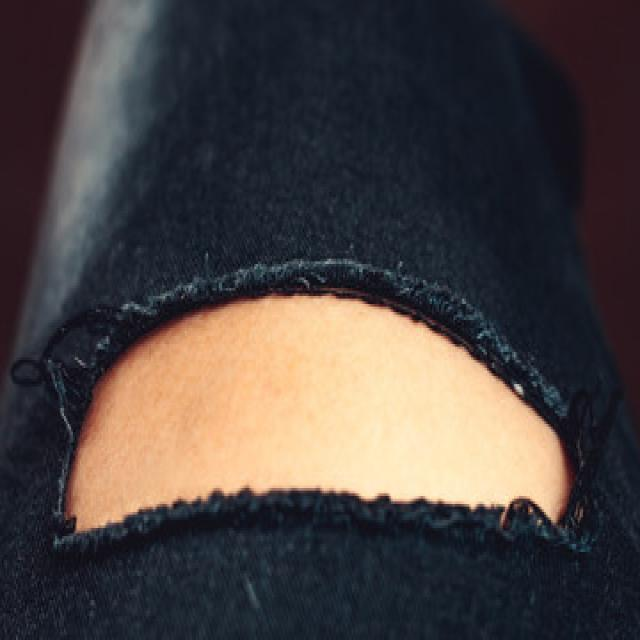Hole: (66, 295, 574, 533)
